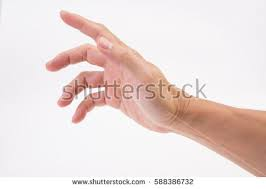hand: (37, 2, 196, 144)
